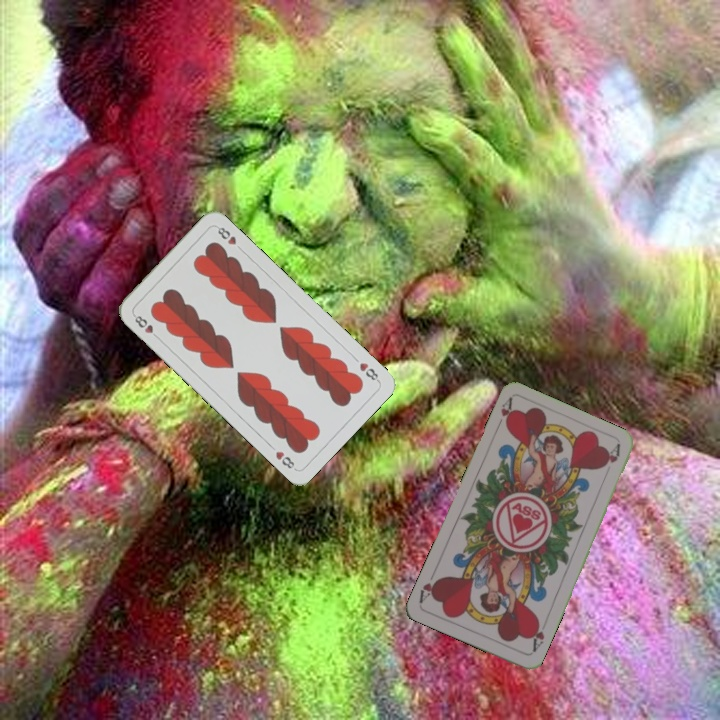H8: (129, 310, 162, 342), (355, 358, 382, 384)
HA: (492, 394, 517, 433), (527, 615, 550, 655)
